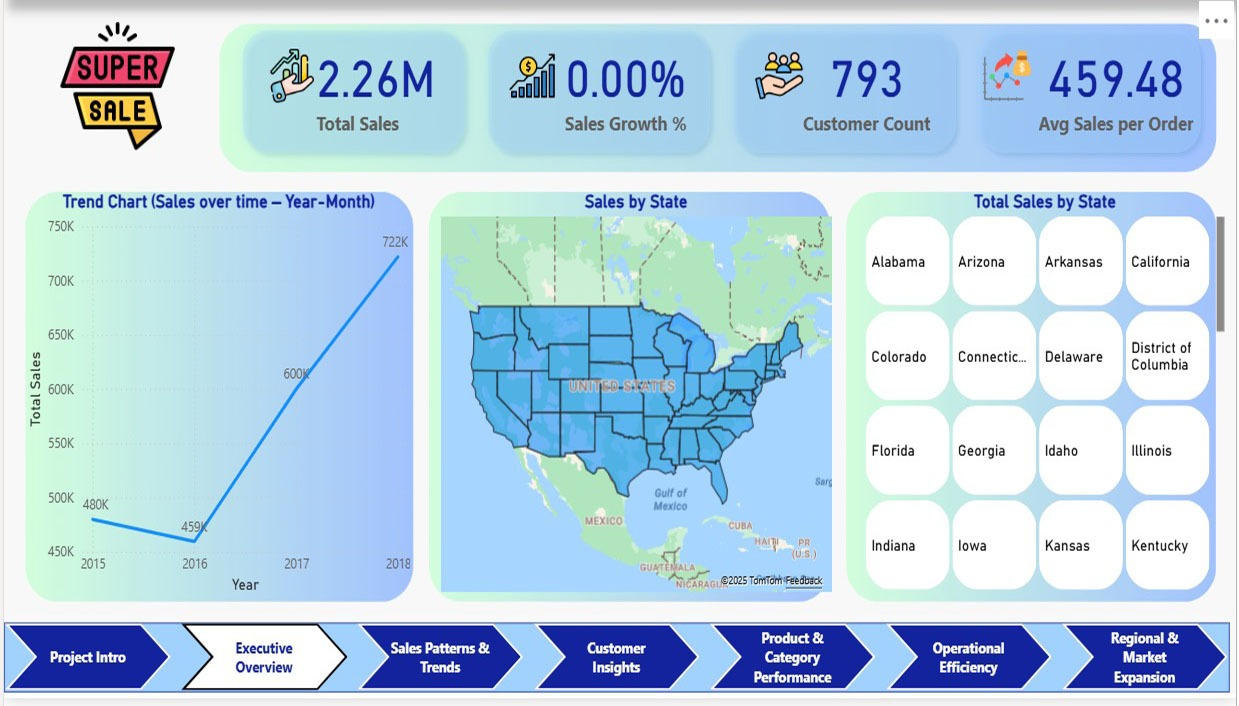

This screenshot's page, from the dashboard's own definition file:
{"tool":"powerbi","page":{"name":"Executive Overview","canvas":[1280,720],"ordinal":1},"visuals":[{"type":"cardVisual","fields":{"Data":["Sales Measure.Total Sales","Sales Measure.Sales Growth %","Cust. & Ship. Measures.Customer Count","Sales Measure.Avg Sales per Order"]},"box":[209.5,81,1070.2,150],"z":0},{"type":"lineChart","title":"Trend Chart (Sales over time – Year-Month)","fields":{"Category":["Date.Date.Variation.Date Hierarchy.Year","Date.Date.Variation.Date Hierarchy.Quarter","Date.Date.Variation.Date Hierarchy.Month","Date.Date.Variation.Date Hierarchy.Day"],"Y":["Sales Measure.Total Sales"]},"box":[18.7,247.8,408.3,378.7],"z":1000},{"type":"azureMap","title":"Sales by State","fields":{"Category":["Dim_destination.State"]},"box":[448.8,247.8,416.1,378.7],"z":2000},{"type":"advancedSlicerVisual","fields":{"Values":["Dim_destination.State"]},"box":[889.9,247.8,383.4,378.7],"z":3000},{"type":"image","box":[19,11.9,198.8,206],"z":4000},{"type":"pageNavigator","box":[0,650,1273.6,64.5],"z":5000}]}

Visuals, with their boxes on the page's 1280x720 design canvas (x1, y1, x2, y2). These are canvas units, not pixel positions in the 1239x706 screenshot, which may show the page scaled, cropped or inside an application window:
cardVisual - Sales Measure.Total Sales x Sales Measure.Sales Growth %: left=210, top=81, right=1280, bottom=231
"Trend Chart (Sales over time – Year-Month)" lineChart: left=19, top=248, right=427, bottom=626
"Sales by State" azureMap: left=449, top=248, right=865, bottom=626
advancedSlicerVisual - Dim_destination.State: left=890, top=248, right=1273, bottom=626
image: left=19, top=12, right=218, bottom=218
pageNavigator: left=0, top=650, right=1274, bottom=714
